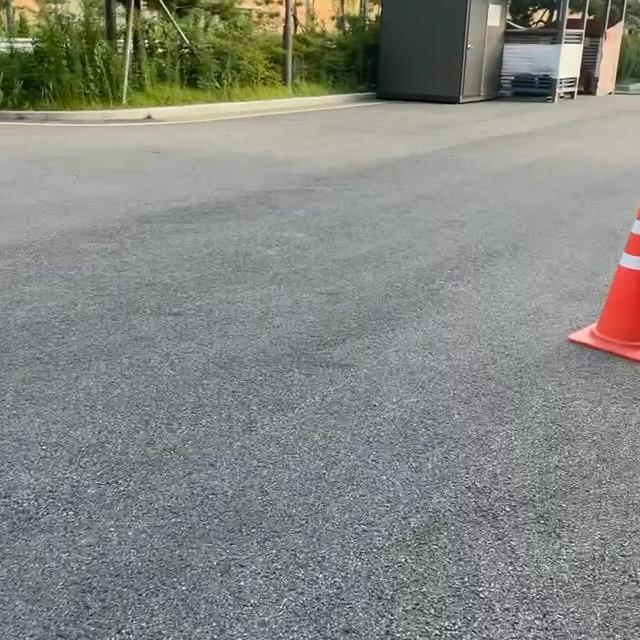fallen_object: (563, 203, 640, 419)
